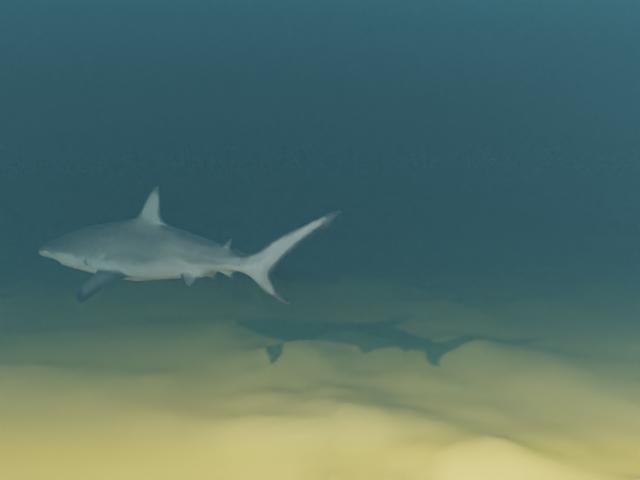Carribean Shark.001: (38, 185, 342, 304)
